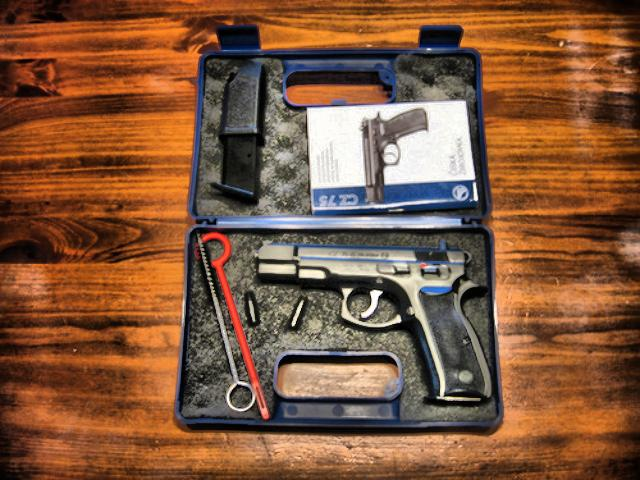pistol: (251, 240, 491, 402), (359, 109, 429, 203)
